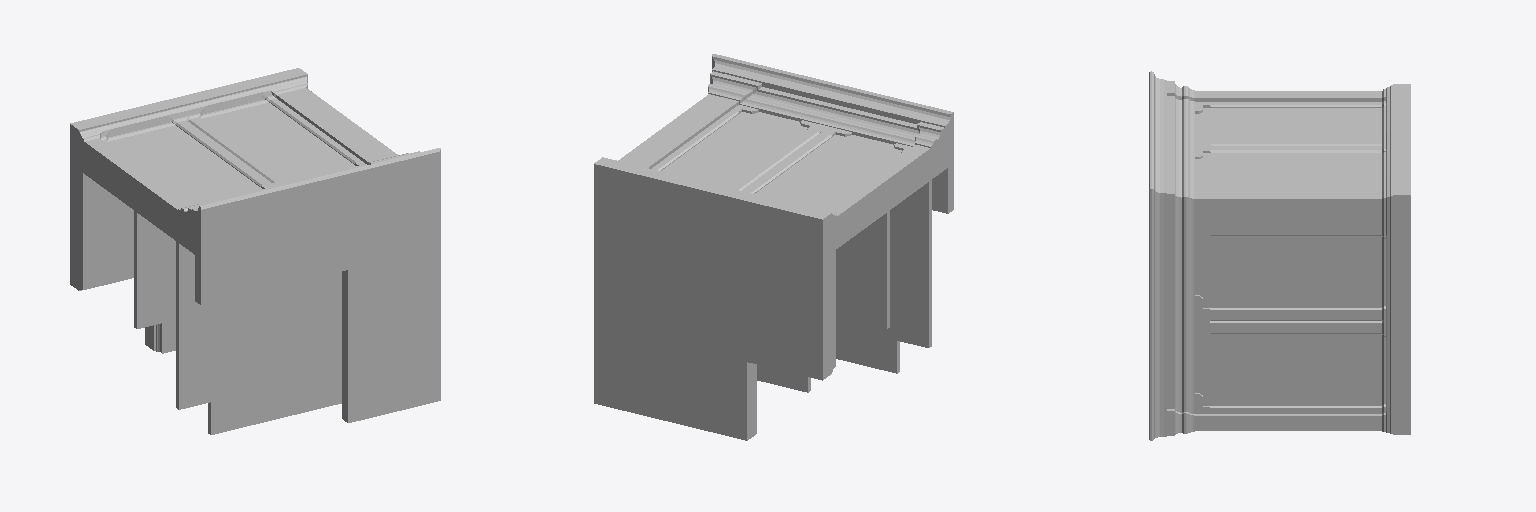
Rendered from side.obj.
3 renders of one model, left to right at view 1: azimuth 30°, elevation 25°; view 2: azimuth 150°, elevation 25°; view 3: azimuth 270°, elevation 25°, orthographic.
Parts seen in each view (by area): view 1: re_bar_side_L_(1)_re_bar_side_L, re_bar_side_R_re_bar_side_R_(1); view 2: re_bar_side_L_(1)_re_bar_side_L, re_bar_side_R_re_bar_side_R_(1); view 3: re_bar_side_R_re_bar_side_R_(1), re_bar_side_L_(1)_re_bar_side_L.
Part boxes in pixels (x1,y1,x2,y2): re_bar_side_L_(1)_re_bar_side_L: (70, 68, 440, 409); re_bar_side_R_re_bar_side_R_(1): (145, 75, 440, 434); re_bar_side_L_(1)_re_bar_side_L: (594, 54, 953, 380); re_bar_side_R_re_bar_side_R_(1): (594, 57, 899, 440); re_bar_side_R_re_bar_side_R_(1): (1149, 189, 1410, 440); re_bar_side_L_(1)_re_bar_side_L: (1149, 71, 1410, 198).
Bounding box in the file's own units: 1.16 × 1.16 × 1.1.